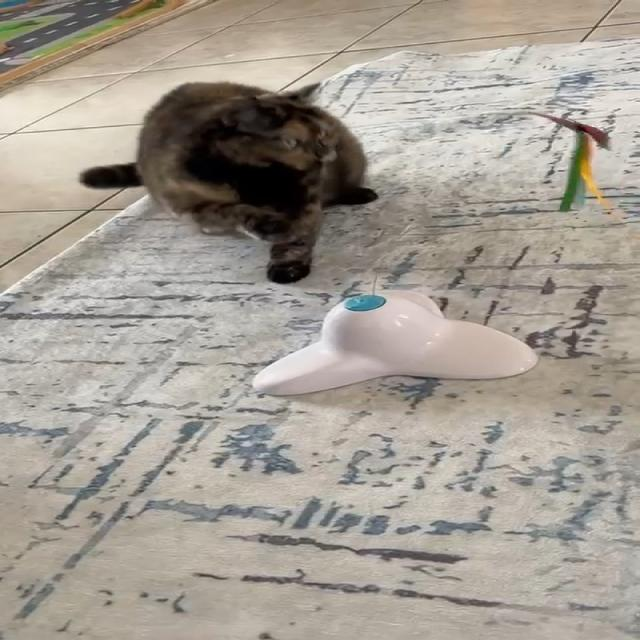authorized: (77, 79, 379, 284)
